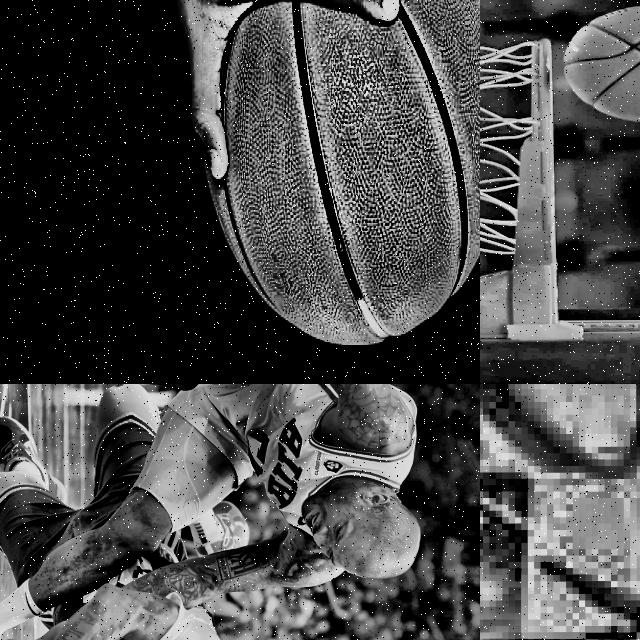Basketball: (201, 0, 480, 342), (564, 6, 640, 122)
